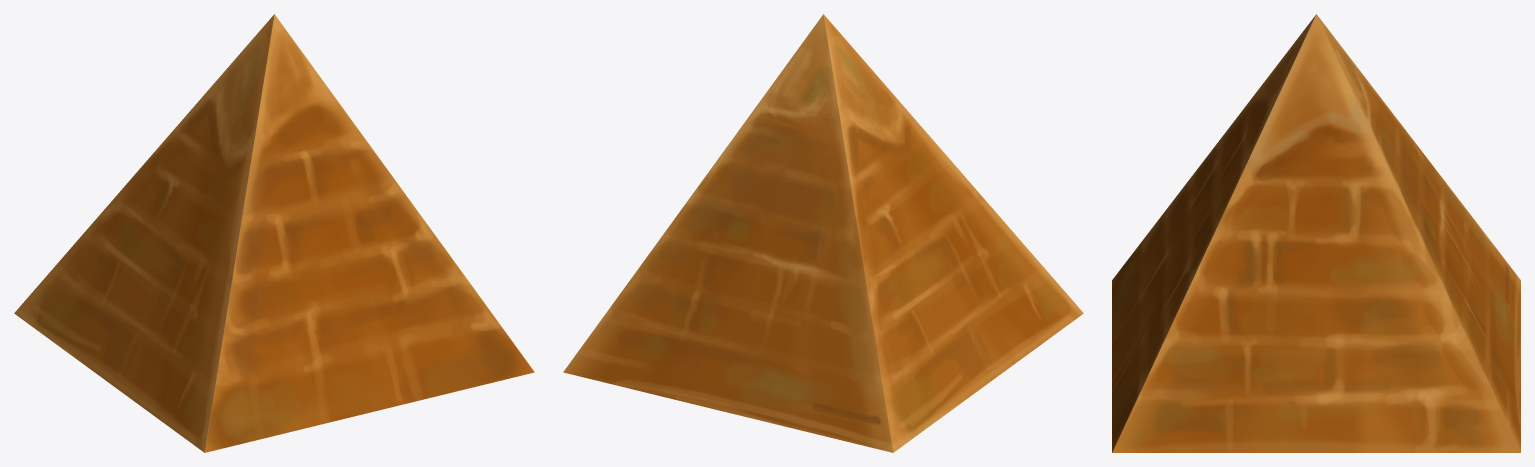
The picture shows the model from 3 angles, left to right: view 1: azimuth 30°, elevation 25°; view 2: azimuth 150°, elevation 25°; view 3: azimuth 270°, elevation 25°; orthographic projection. The views are drawn at different scales.
Visible parts, largest first — view 1: Cube; view 2: Cube; view 3: Cube.
Part boxes in pixels (x1,y1,x2,y2): Cube: (14, 14, 534, 452); Cube: (563, 14, 1083, 452); Cube: (1112, 14, 1520, 452).
Size of the model in its own units: 100 by 95.18 by 100.
Materials: 1 (1 with a texture image).
